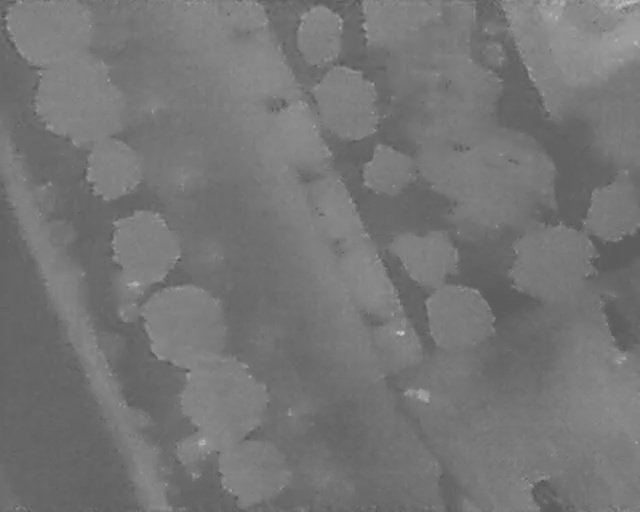Car: (596, 298, 637, 354), (528, 479, 566, 512)
